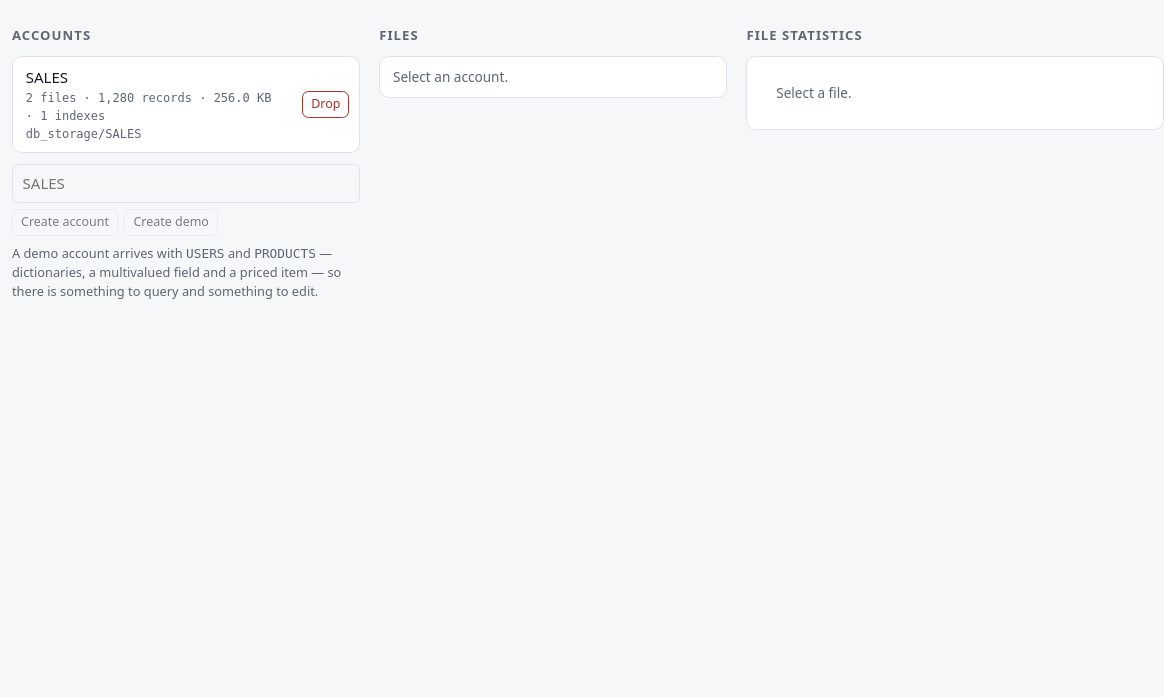
Test: the dictionary of a file › says so when a file has no dictionary at all
This screenshot has width=1164, height=697.
Step 1. Click the button with class "select" → (154,105), box [13,58,296,152]
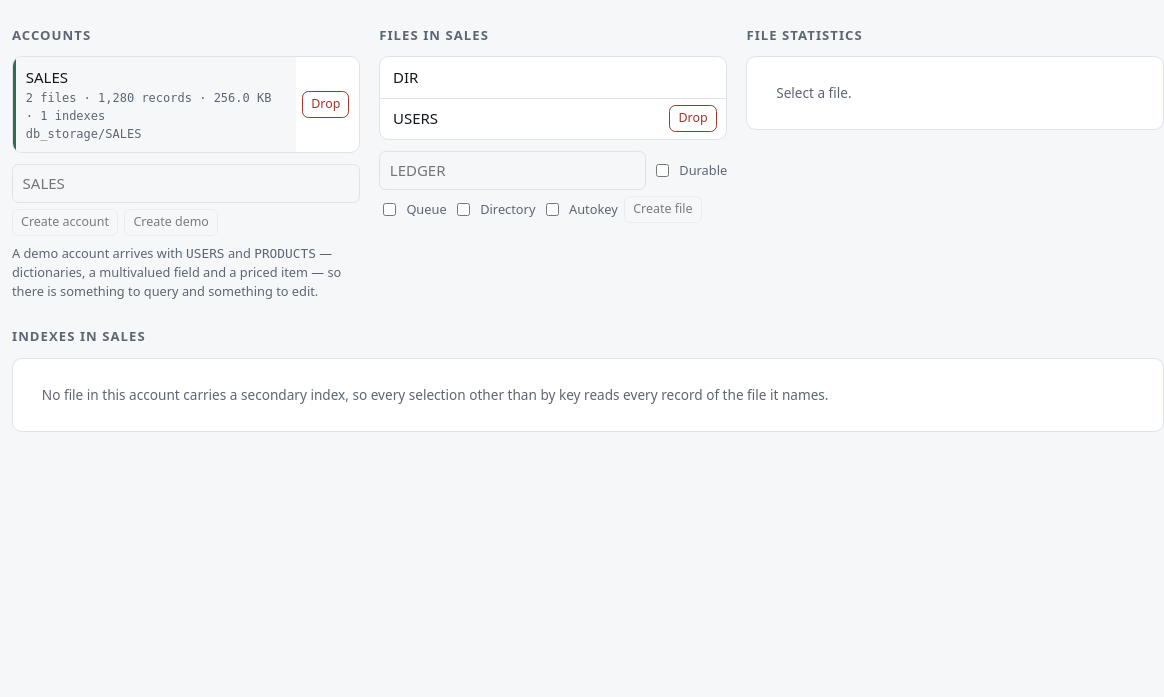
Step 2. Click the button with class "select" showing "DIR" → (406,77), box [380,58,717,98]
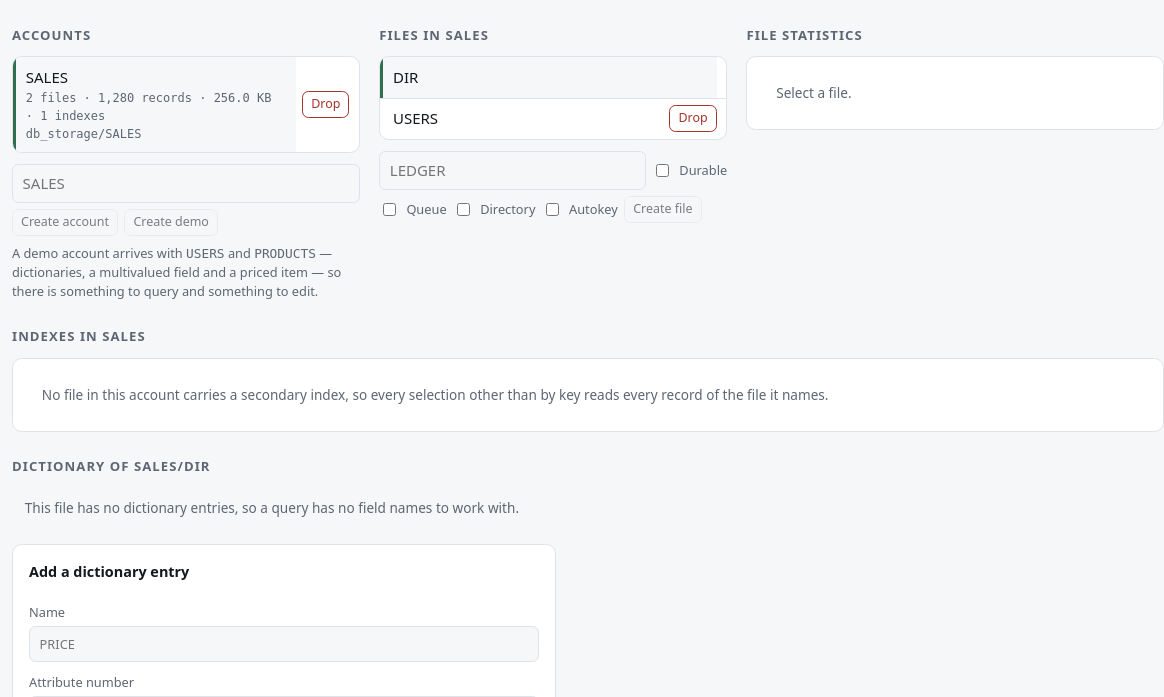
Expected: the text "SALES/DIR" is shown, [12,457,210,475]
Expected: the text "no dictionary entries" is shown, [25,498,519,517]
